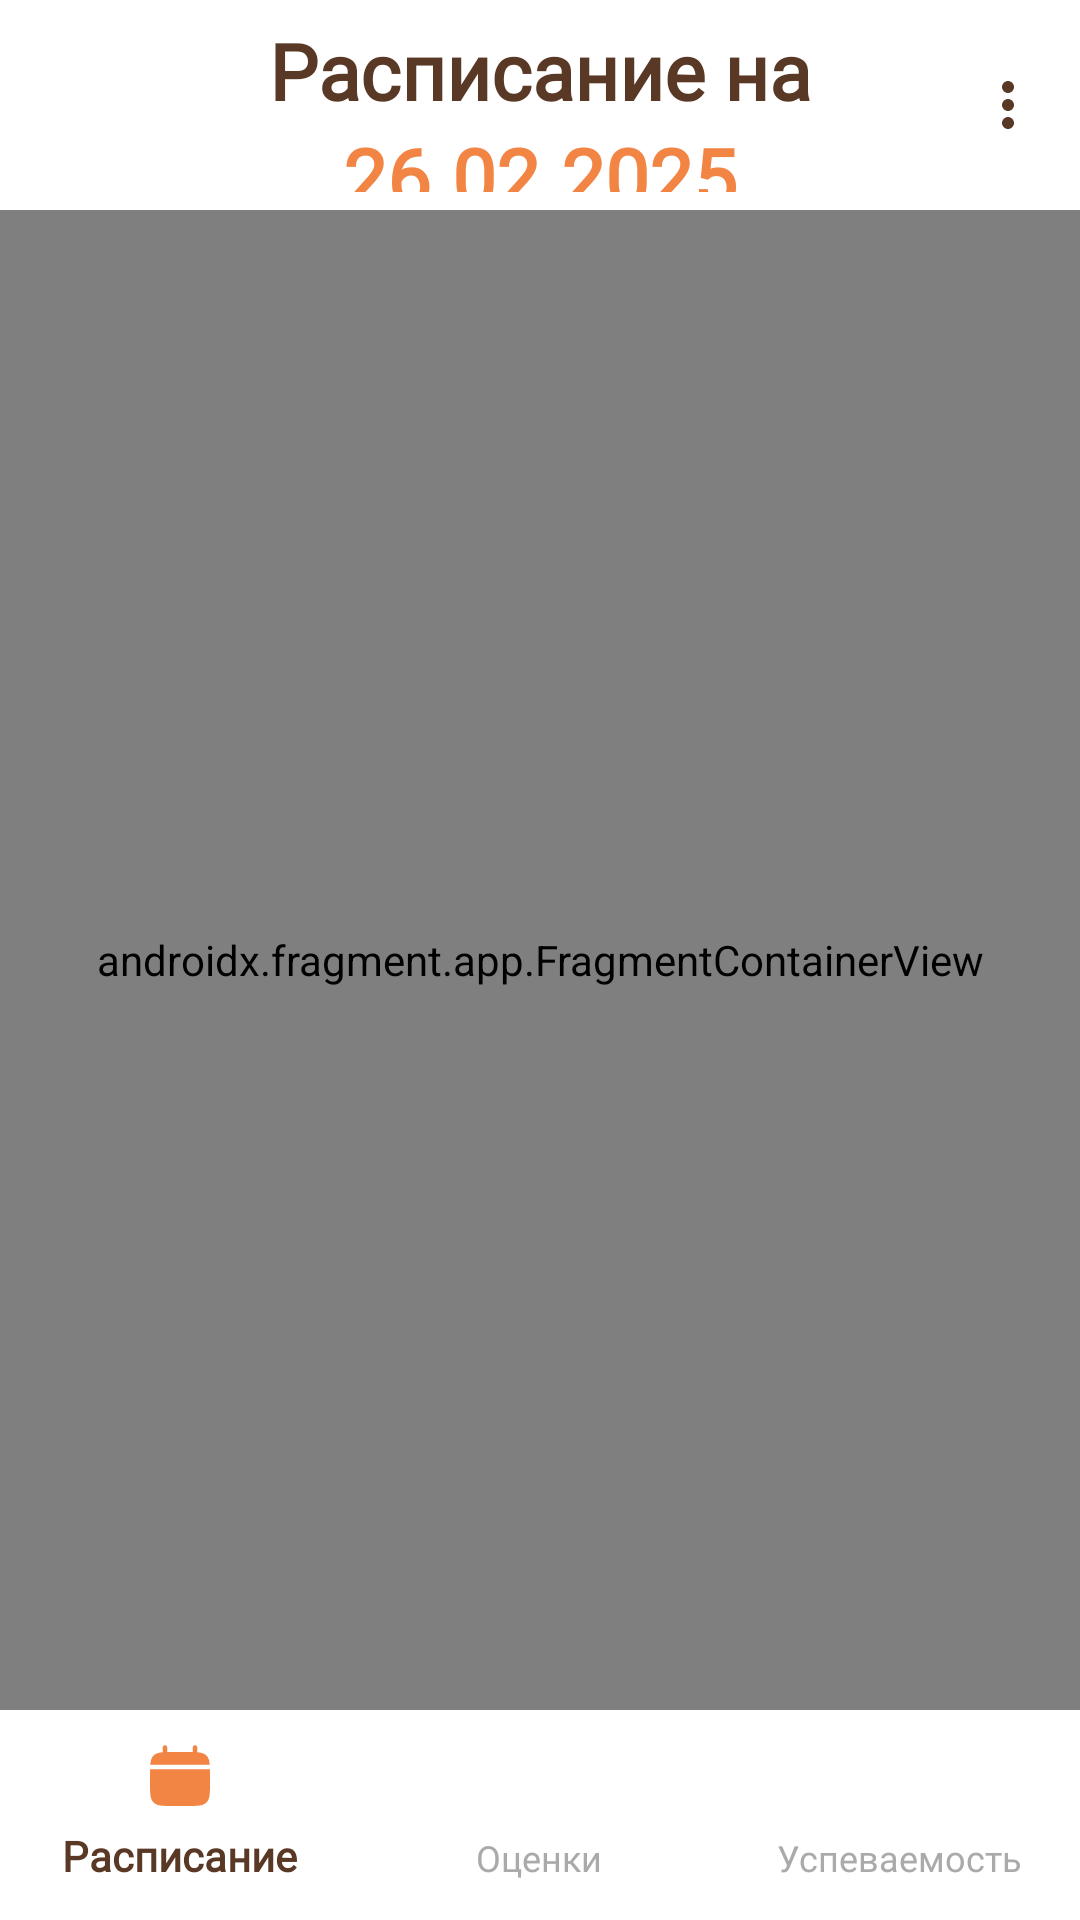

Screen size 1080w x 1920h. Icon name, then its box in pixels as [x1, y1, x2, y2]:
Ещё: [1002, 81, 1014, 129]
